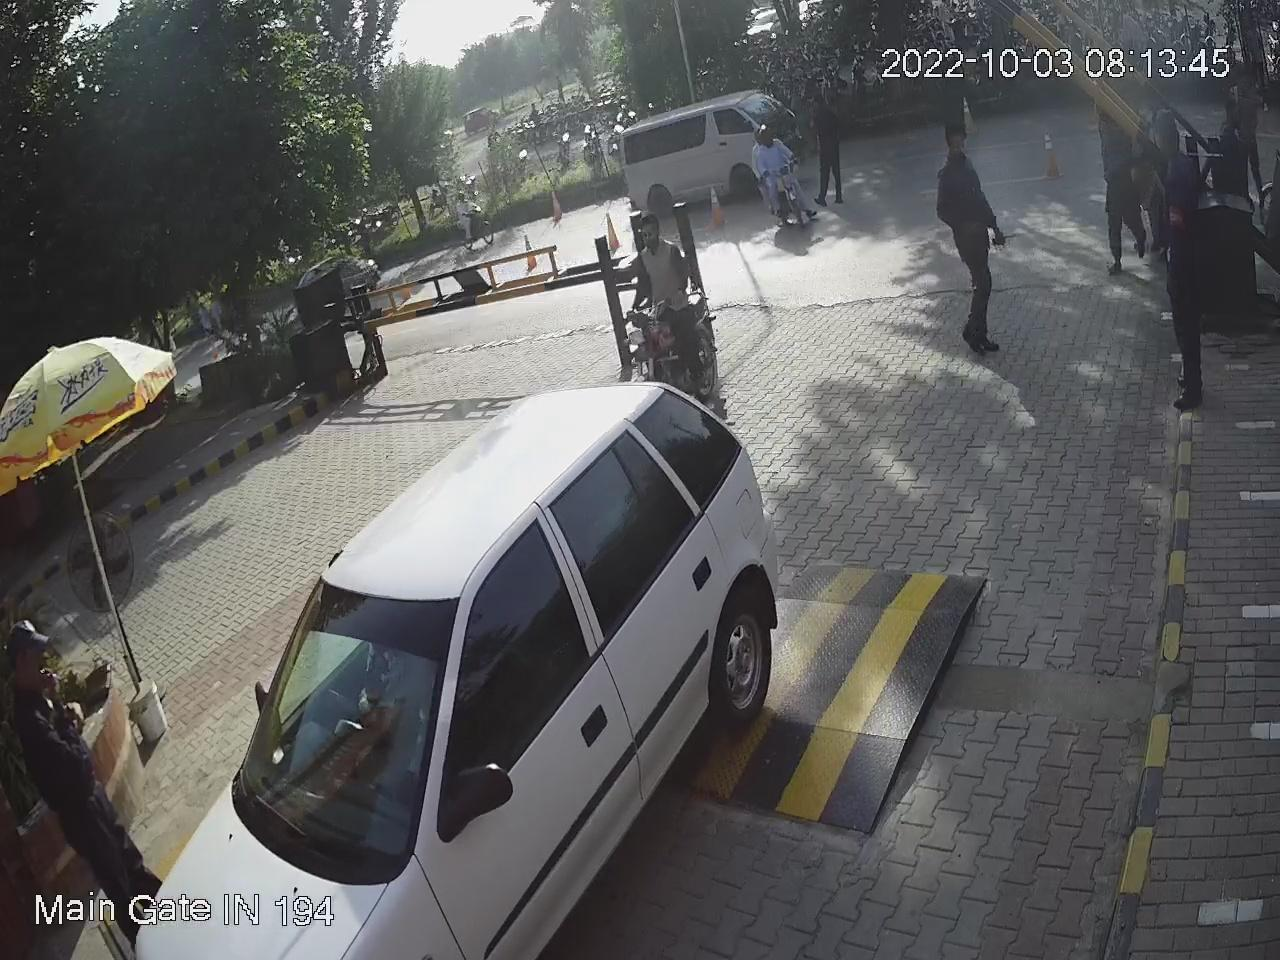windshield: (228, 578, 466, 880)
